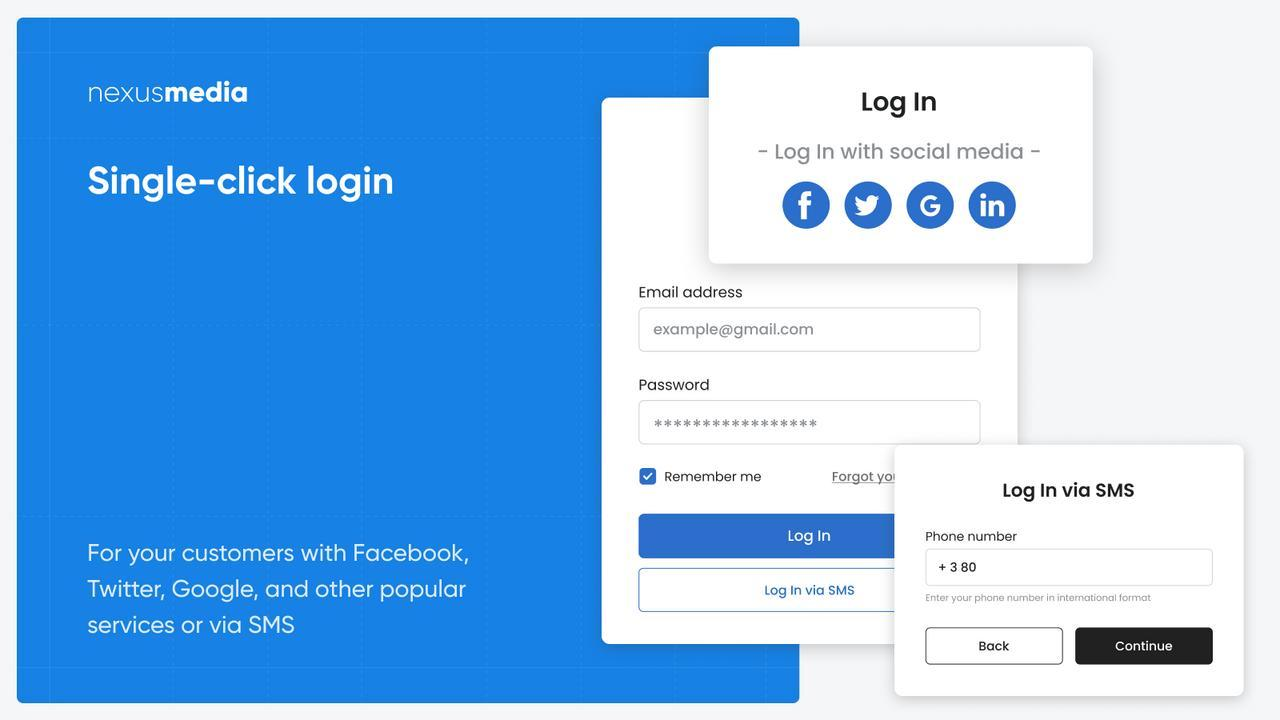button: (640, 514, 895, 558), (641, 571, 893, 614), (1076, 627, 1213, 668), (927, 628, 1063, 666)
icon: (965, 174, 1023, 228), (778, 177, 833, 232), (902, 177, 958, 231), (843, 180, 897, 231)
input: (641, 310, 980, 354), (639, 403, 981, 443), (925, 549, 1216, 588)
label: (664, 469, 764, 488), (921, 529, 1022, 544), (638, 286, 749, 299), (637, 376, 714, 394)
